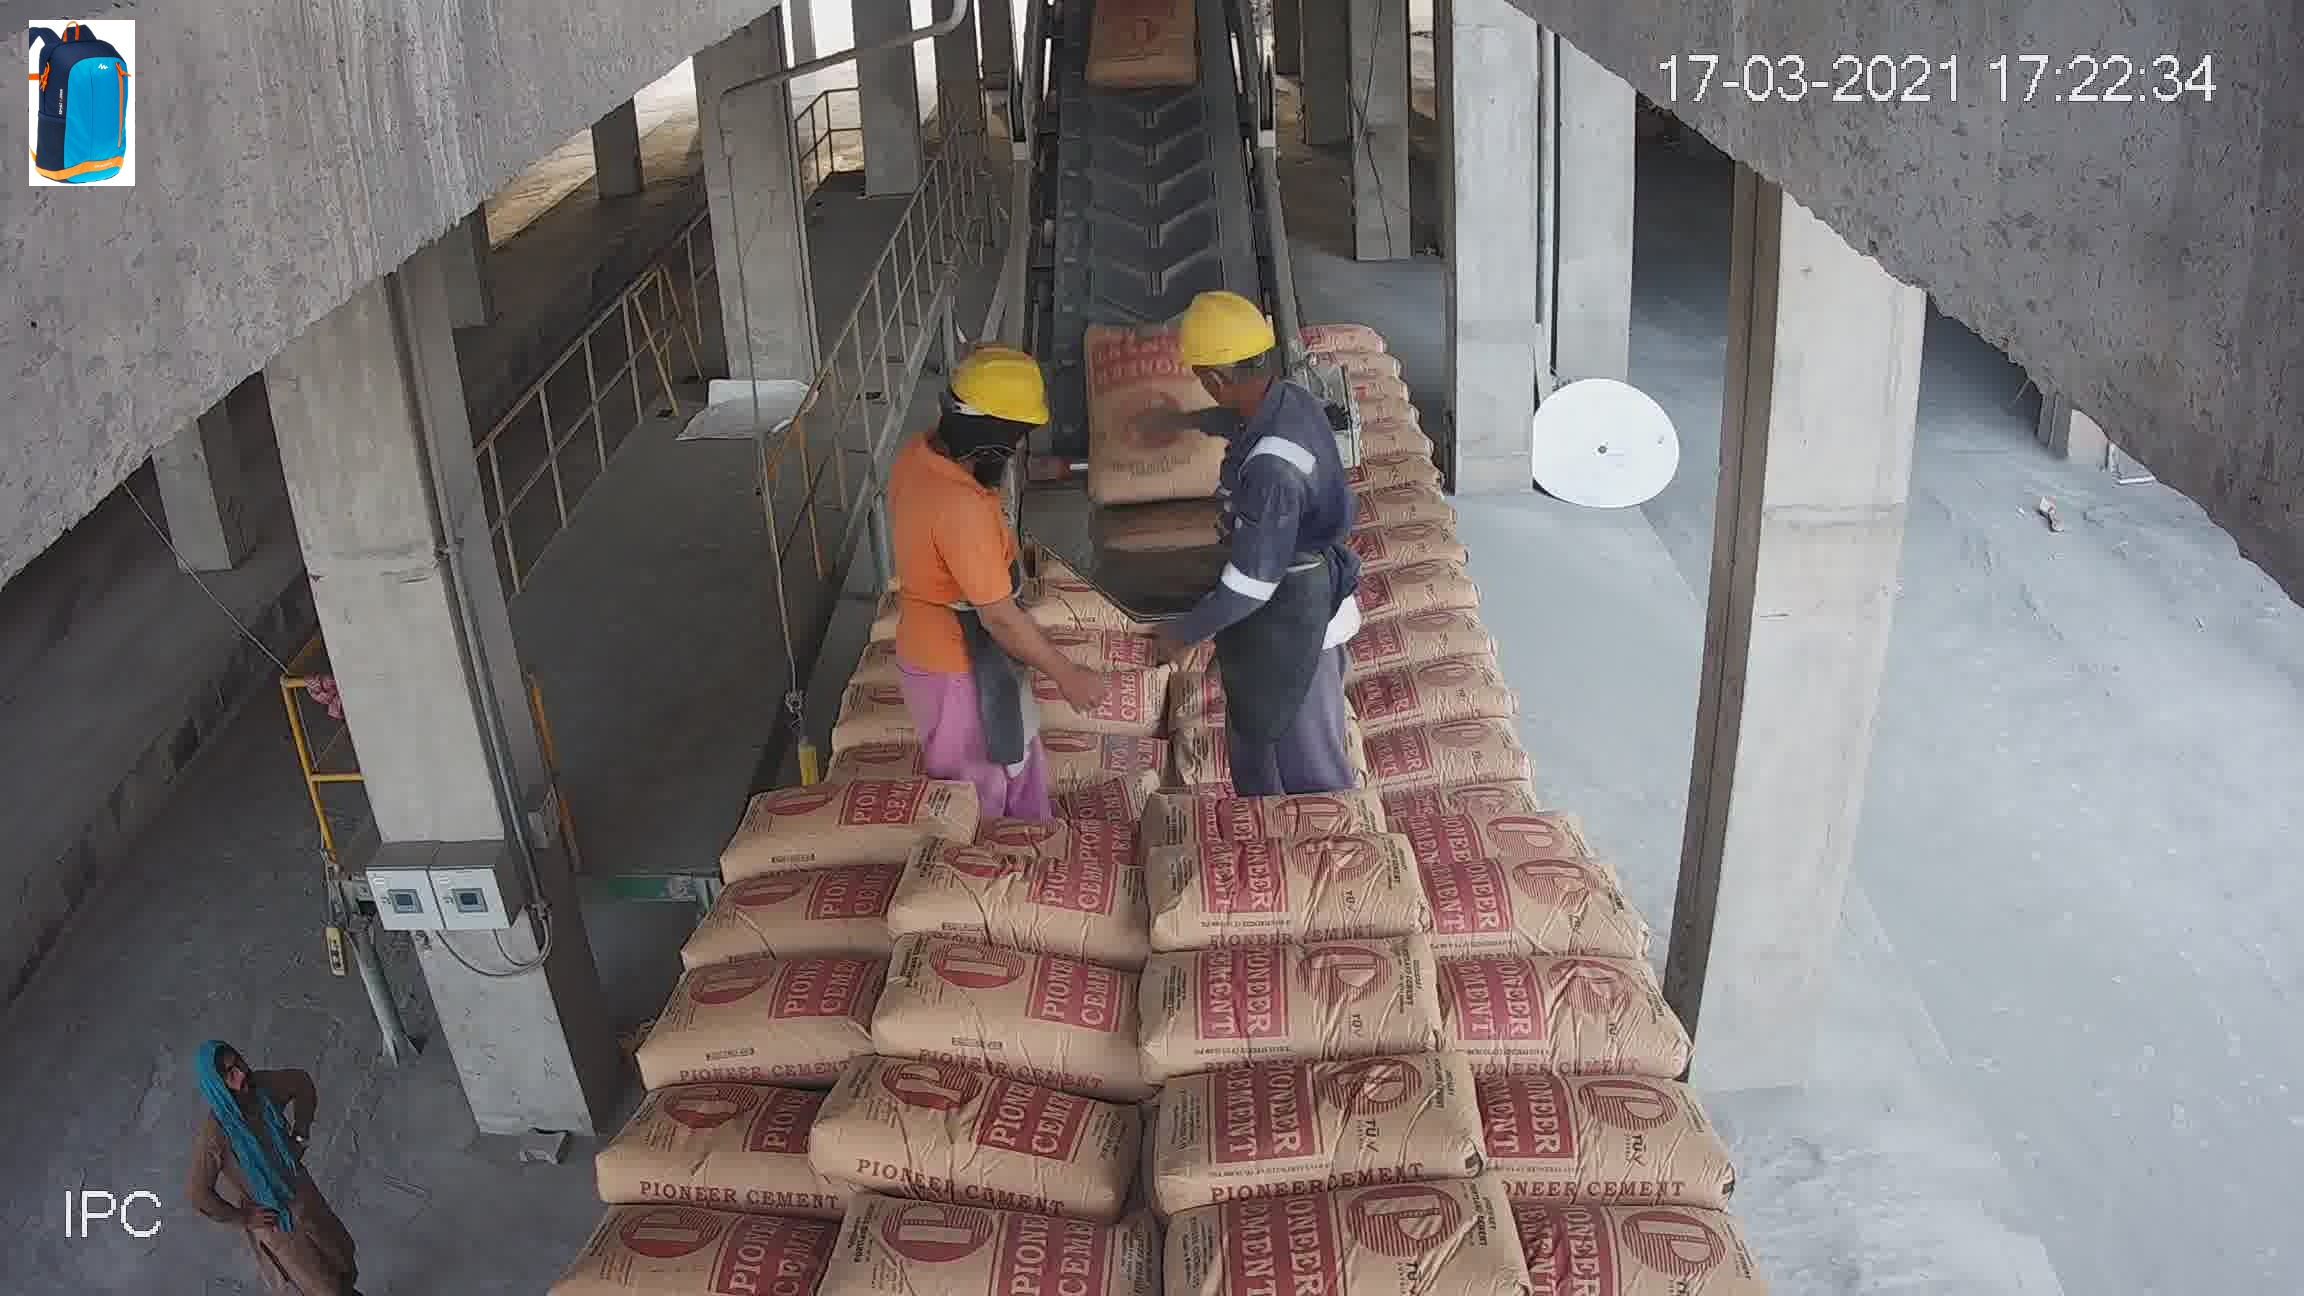bag: (1086, 14, 1203, 74)
bag_h: (1147, 1054, 1483, 1195), (1131, 937, 1483, 1067), (809, 1074, 1120, 1207), (1147, 818, 1443, 954), (1158, 1179, 1492, 1296), (869, 953, 1152, 1090), (812, 1180, 1146, 1296), (1454, 1070, 1711, 1218), (608, 1054, 839, 1214), (639, 953, 888, 1084), (1405, 842, 1662, 965), (1457, 949, 1674, 1089), (1135, 725, 1396, 839), (896, 847, 1161, 949), (1364, 763, 1600, 877), (891, 752, 1149, 851), (1157, 647, 1367, 764), (1514, 1199, 1761, 1296), (682, 870, 896, 975), (567, 1203, 818, 1287), (744, 696, 943, 801), (715, 774, 900, 885), (927, 685, 1147, 766), (1374, 668, 1541, 764), (1168, 476, 1318, 563), (1165, 554, 1291, 633), (785, 657, 946, 715), (856, 620, 1005, 677), (851, 590, 1019, 635), (897, 502, 999, 567), (888, 551, 1017, 592)
belt: (1029, 24, 1285, 441)
